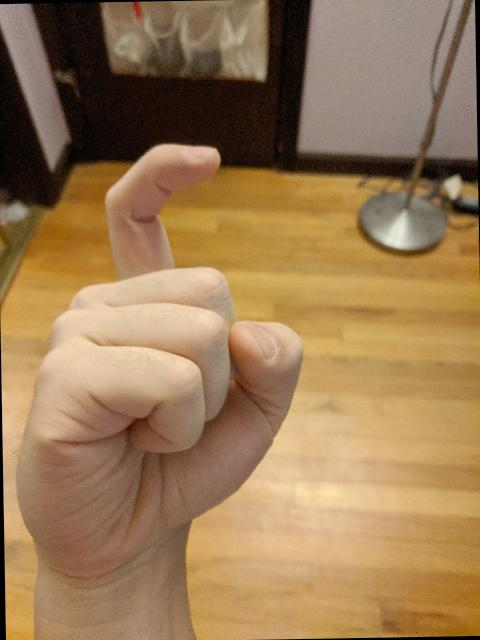X: (3, 137, 312, 560)
